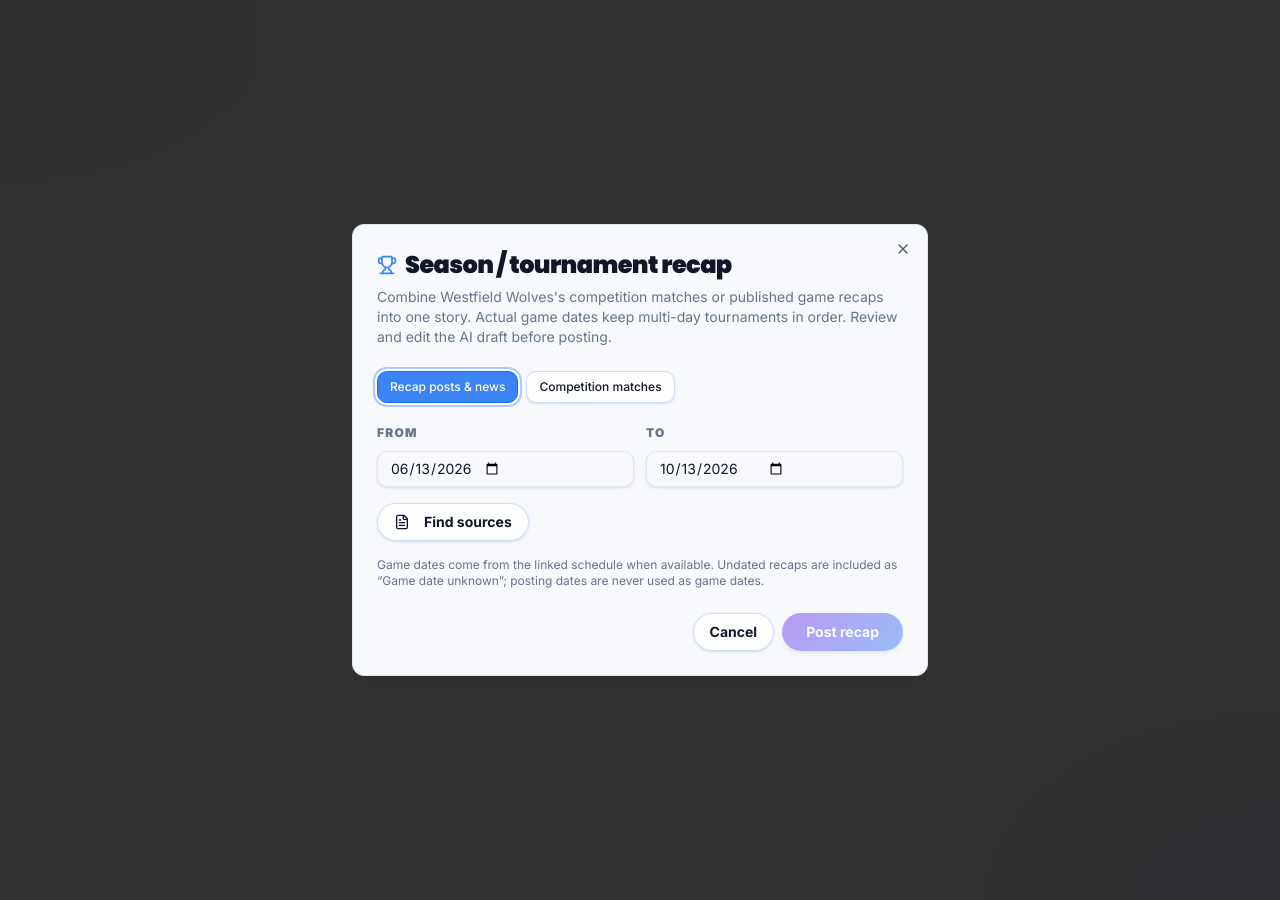
Test case: SeasonRecapDialog news coverage › explains when dated team news falls outside the selected period
Click the button with test id "button-season-recap-find-recaps": (453, 522) [377,503,529,541]
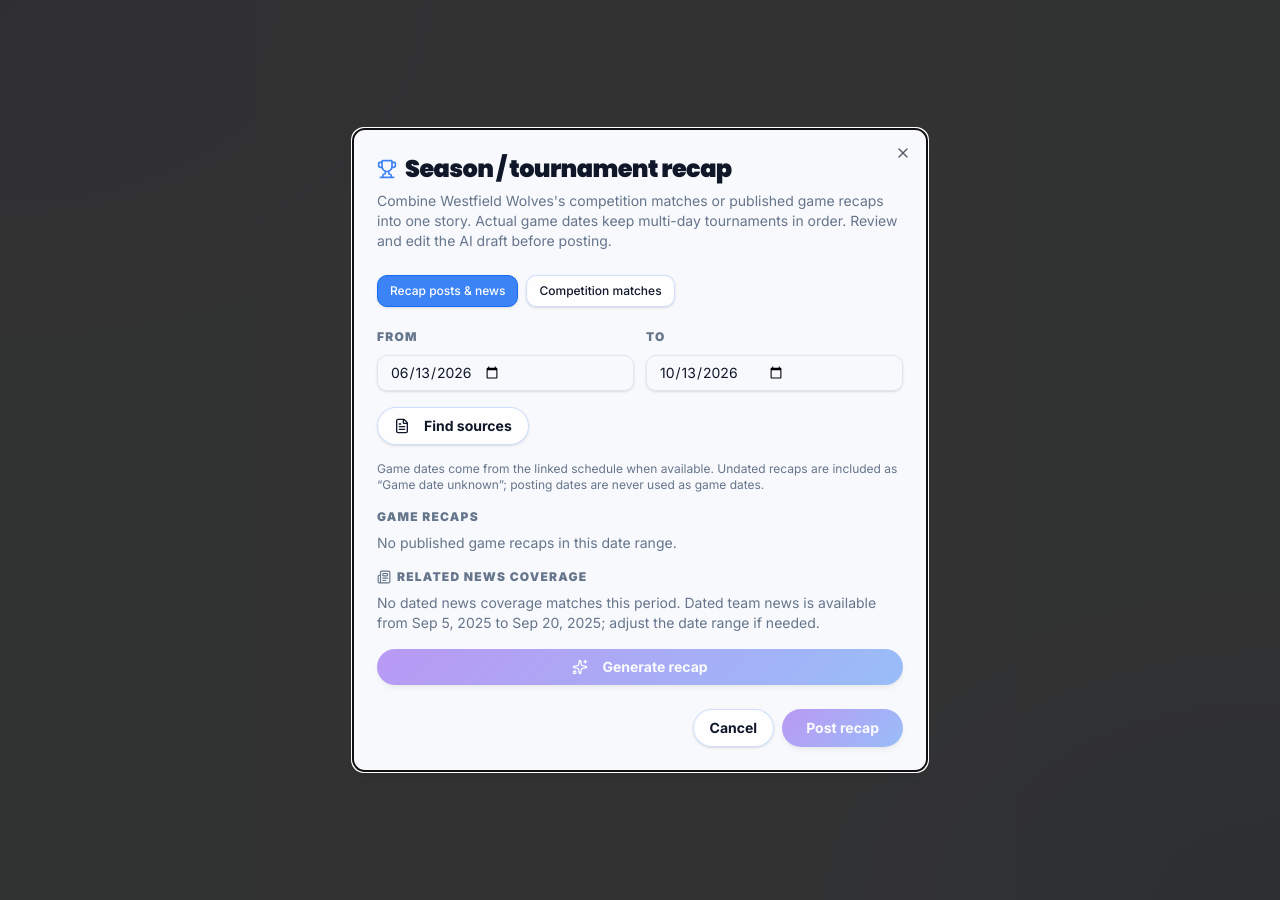
Now the text with test id "text-season-news-empty-state" shows "Dated team news is available from Sep 5, 2025 to Sep 20, 2025", box [377,594,876,631]
